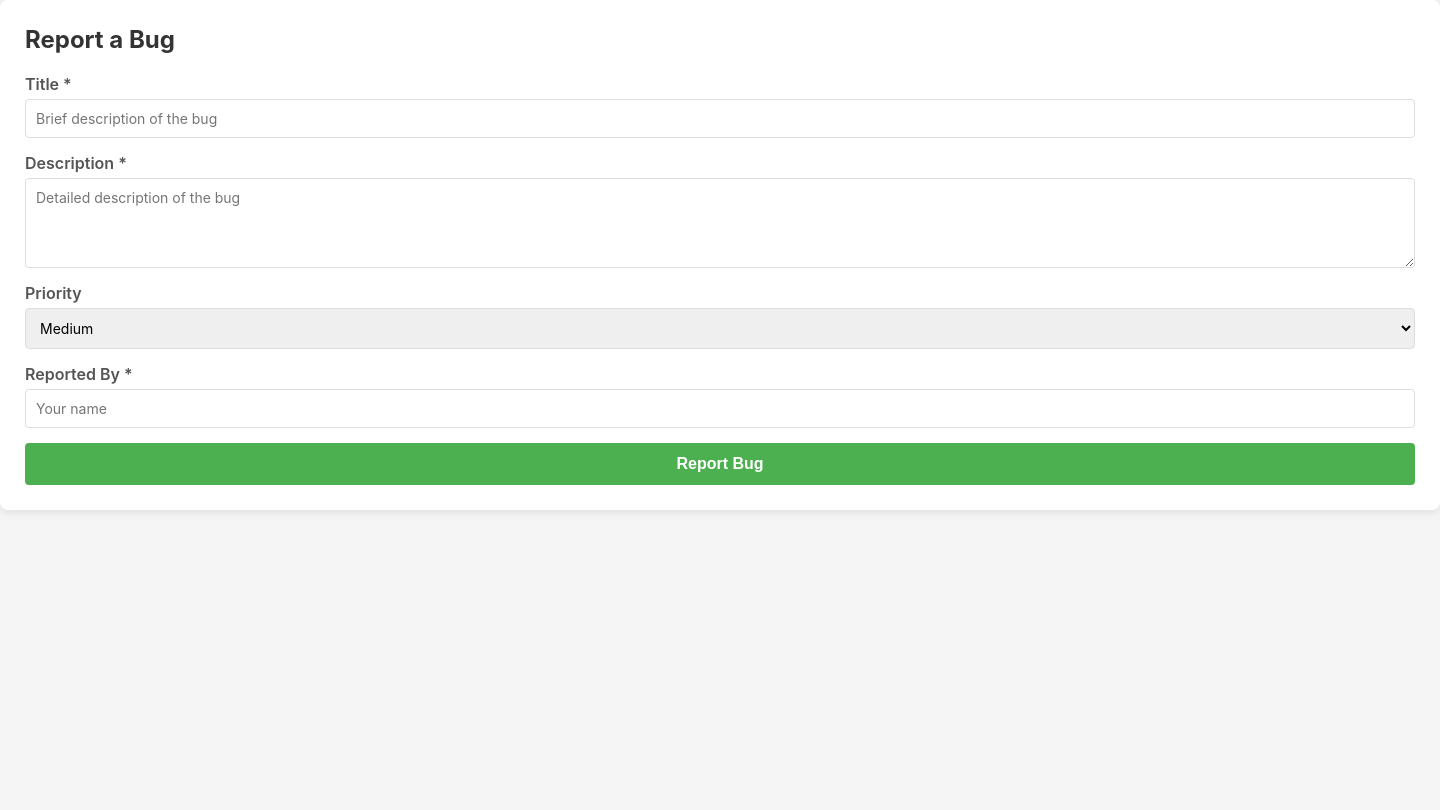
Test case: BugForm Component › shows validation error for short title
In the field labelled "Title *": (720,118) x1=25 y1=99 x2=1415 y2=138, type "AB"
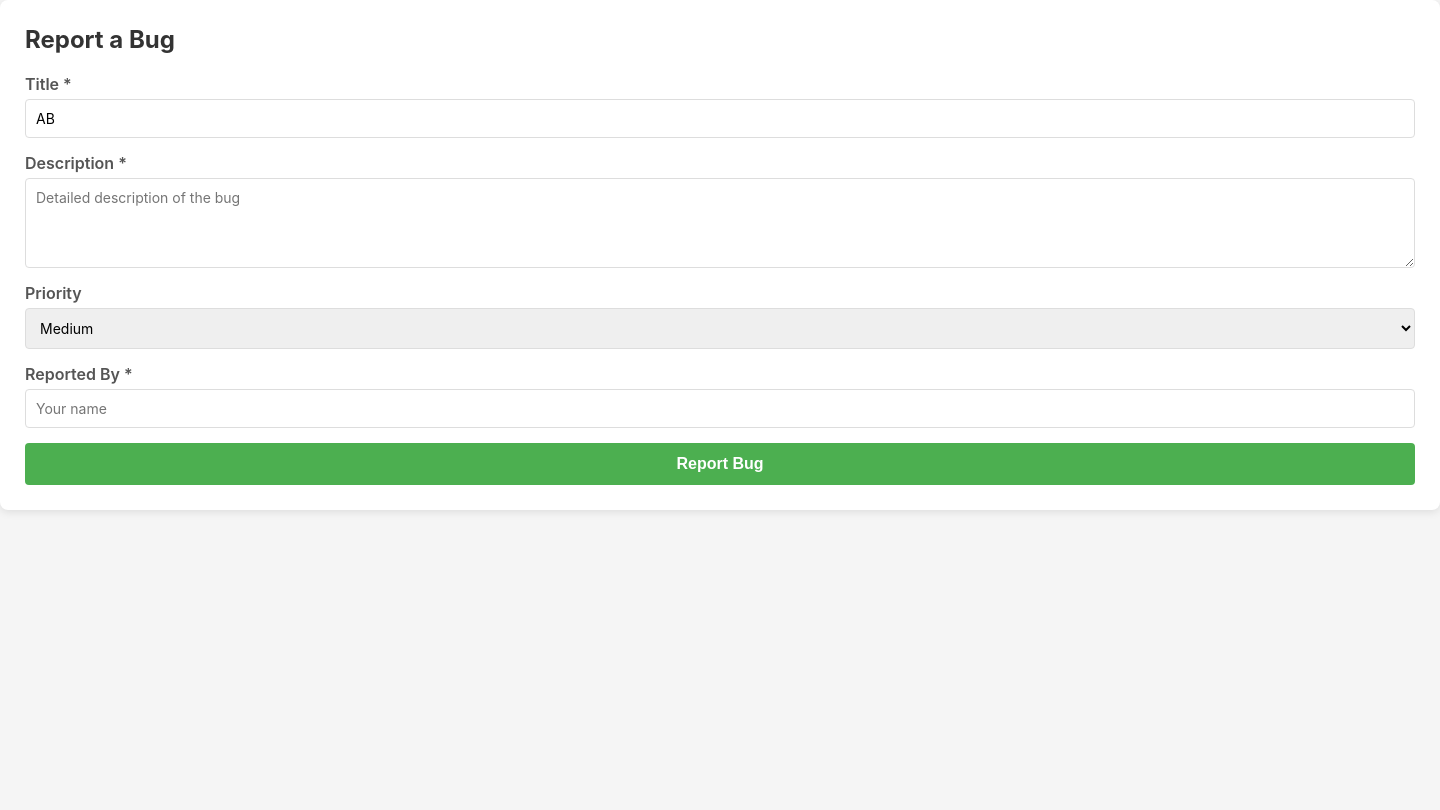
Click the button "Report Bug": (720,464) x1=25 y1=443 x2=1415 y2=485
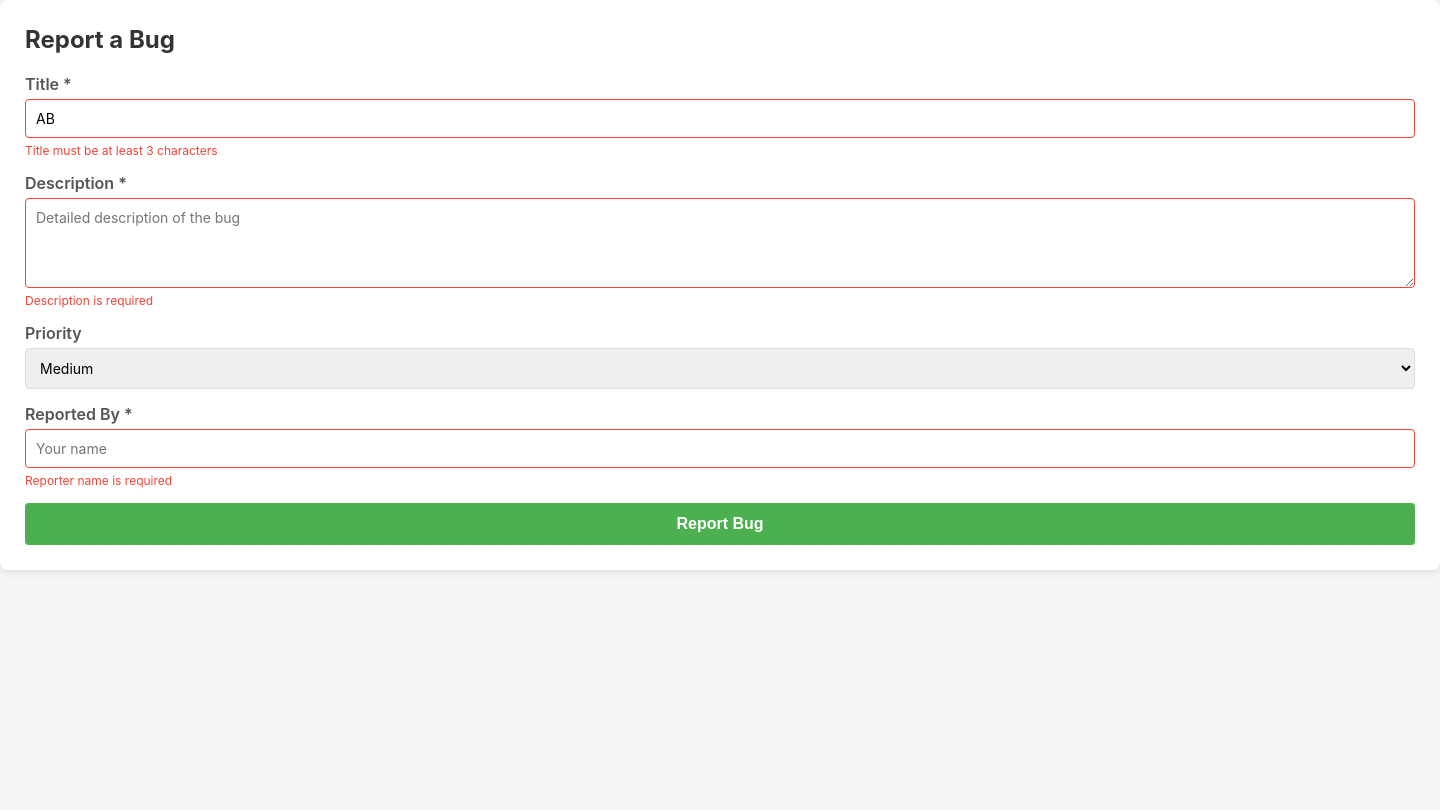
Result: the text "Title must be at least 3 characters" is shown at x1=25 y1=143 x2=218 y2=158
